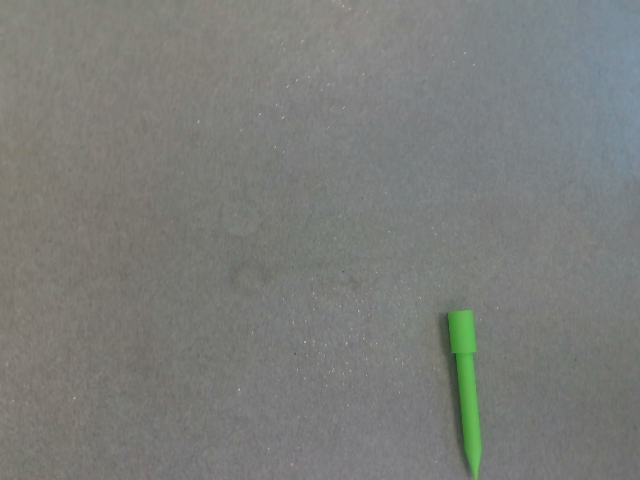Probe: (444, 302, 492, 480)
